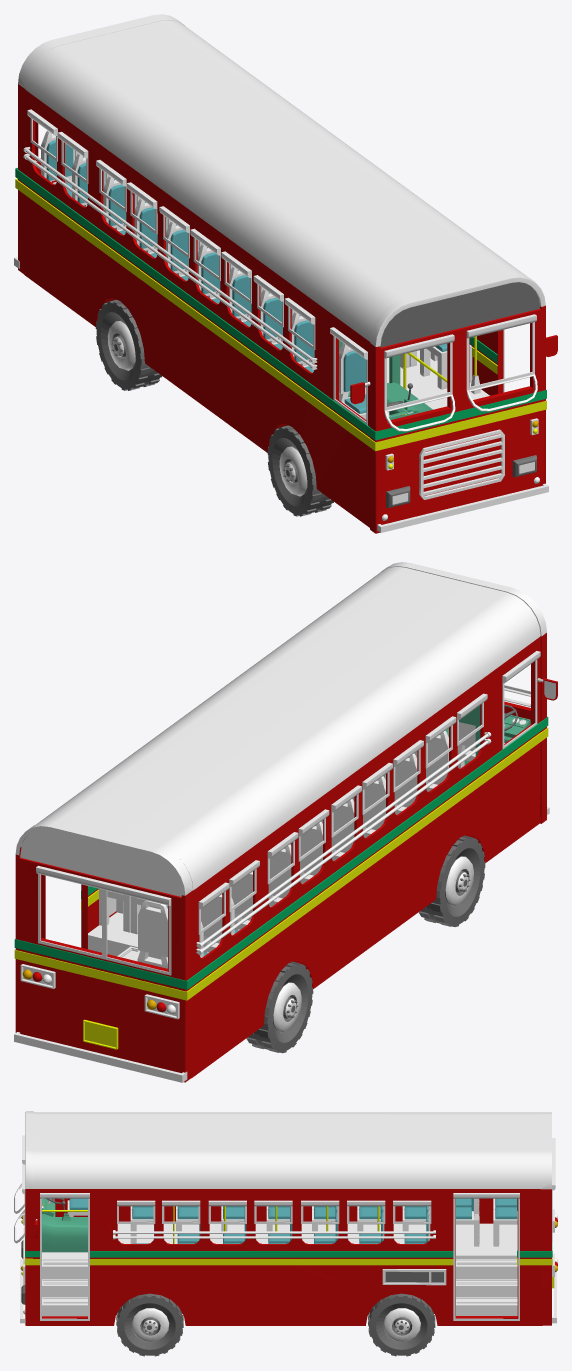
The model's file is best_bus.glb.
The picture shows the model from 3 angles, top to bottom: view 1: azimuth 30°, elevation 25°; view 2: azimuth 150°, elevation 25°; view 3: azimuth 270°, elevation 25°; orthographic projection. The views are drawn at different scales.
Visible parts, largest first — view 1: polySurface23, polySurface9, polySurface22, pCube40, pCube38, pCylinder34, pCylinder35, pCube41, polySurface21, pCylinder23, pCube45, pCube11 (+15 smaller); view 2: polySurface23, polySurface9, polySurface21, pCube38, pCube40, pCylinder35, pCylinder34, pCylinder23, polySurface22, pCube48, polySurface41, pCube69 (+14 smaller); view 3: polySurface23, polySurface9, pCube11, pCube68, pCylinder34, pCylinder35, pCube31, pCube37, pCube39, polySurface21, pCylinder22, pCube32 (+25 smaller).
Boxes of the visible parts, x1,y1,x2,y2 form: polySurface23: [25, 20, 527, 341]; polySurface9: [24, 90, 503, 527]; polySurface22: [370, 273, 545, 533]; pCube40: [15, 178, 546, 451]; pCube38: [15, 167, 546, 440]; pCylinder34: [267, 425, 333, 516]; pCylinder35: [95, 299, 162, 390]; pCube41: [419, 429, 504, 499]; polySurface21: [18, 14, 184, 274]; pCylinder23: [26, 149, 312, 366]; pCube45: [377, 483, 548, 532]; pCube11: [387, 350, 489, 409]; polySurface23: [37, 566, 540, 890]; polySurface9: [42, 636, 540, 1078]; polySurface21: [15, 820, 192, 1082]; pCube38: [14, 716, 548, 989]; pCube40: [14, 727, 548, 1000]; pCylinder35: [246, 961, 313, 1053]; pCylinder34: [418, 835, 485, 926]; pCylinder23: [201, 734, 488, 951]; polySurface22: [381, 562, 546, 823]; pCube48: [36, 865, 171, 975]; polySurface41: [137, 900, 207, 968]; pCube69: [14, 1032, 187, 1082]; polySurface23: [33, 1112, 540, 1188]; polySurface9: [33, 1189, 542, 1325]; pCube11: [42, 1223, 517, 1259]; pCube68: [456, 1259, 517, 1315]; pCylinder34: [116, 1293, 183, 1356]; pCylinder35: [368, 1293, 435, 1356]; pCube31: [42, 1259, 87, 1316]; pCube37: [90, 1251, 453, 1257]; pCube39: [90, 1259, 453, 1265]; polySurface21: [540, 1112, 551, 1325]; pCylinder22: [115, 1231, 433, 1238]; pCube32: [42, 1198, 87, 1252].
Bounding box in the file's own units: 0.0675 × 0.0826 × 0.2104.
